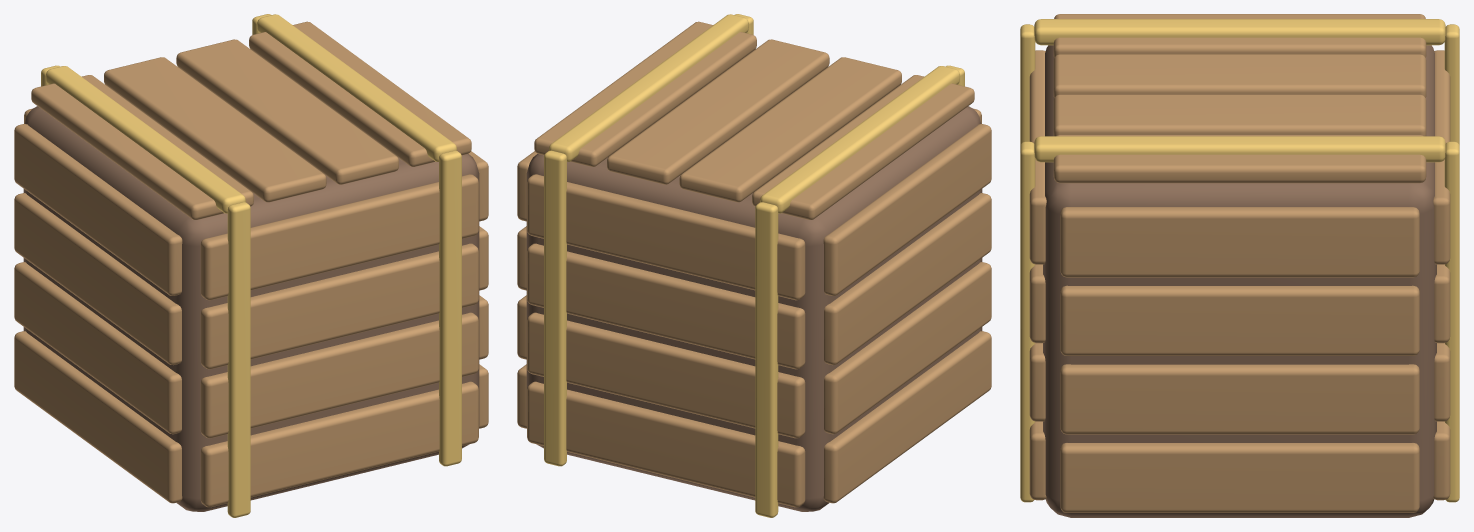
The model's file is echo_crate.glb.
3 renders of one model, left to right at view 1: azimuth 30°, elevation 25°; view 2: azimuth 150°, elevation 25°; view 3: azimuth 270°, elevation 25°, orthographic. The views are drawn at different scales.
Parts seen in each view (by area): view 1: echo_crate / material batches; view 2: echo_crate / material batches; view 3: echo_crate / material batches.
Boxes of the visible parts, box(x1,y1,x2,y2) form: echo_crate / material batches: box(14, 14, 488, 517); echo_crate / material batches: box(517, 14, 991, 517); echo_crate / material batches: box(1020, 14, 1459, 517).
Size of the model in its own units: 0.971 by 0.9225 by 1.01.
